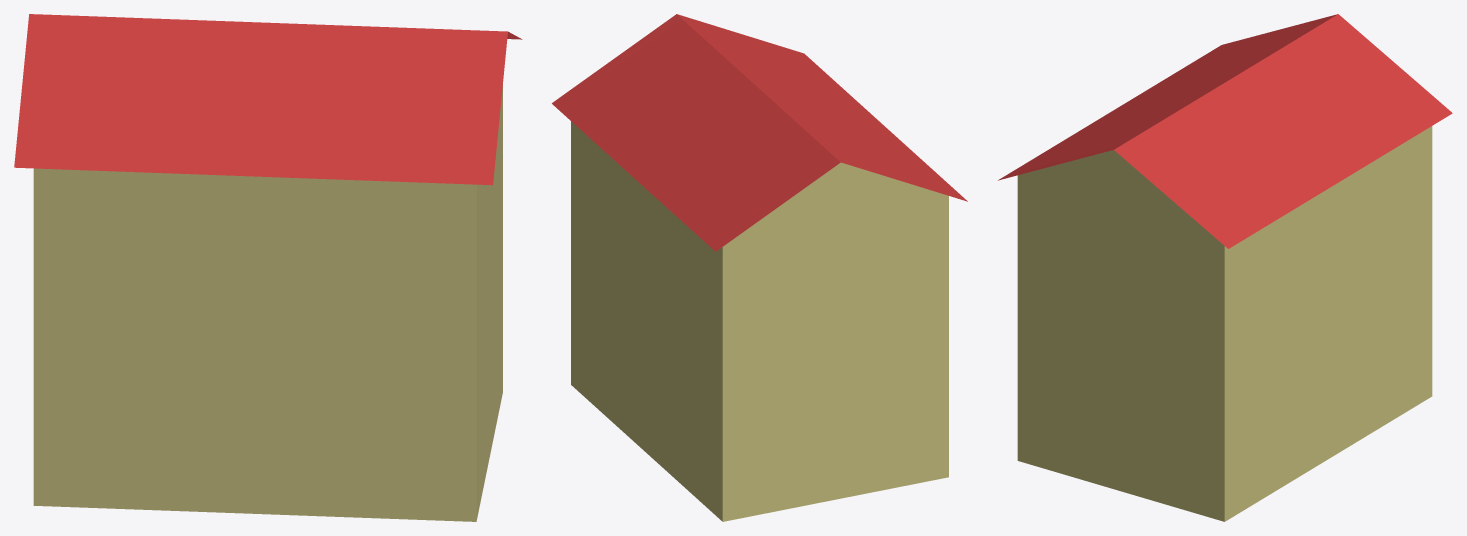
The picture shows the model from 3 angles, left to right: view 1: azimuth 30°, elevation 25°; view 2: azimuth 150°, elevation 25°; view 3: azimuth 270°, elevation 25°; orthographic projection. The views are drawn at different scales.
Size of the model in its own units: 16.28 by 15.37 by 12.9.
